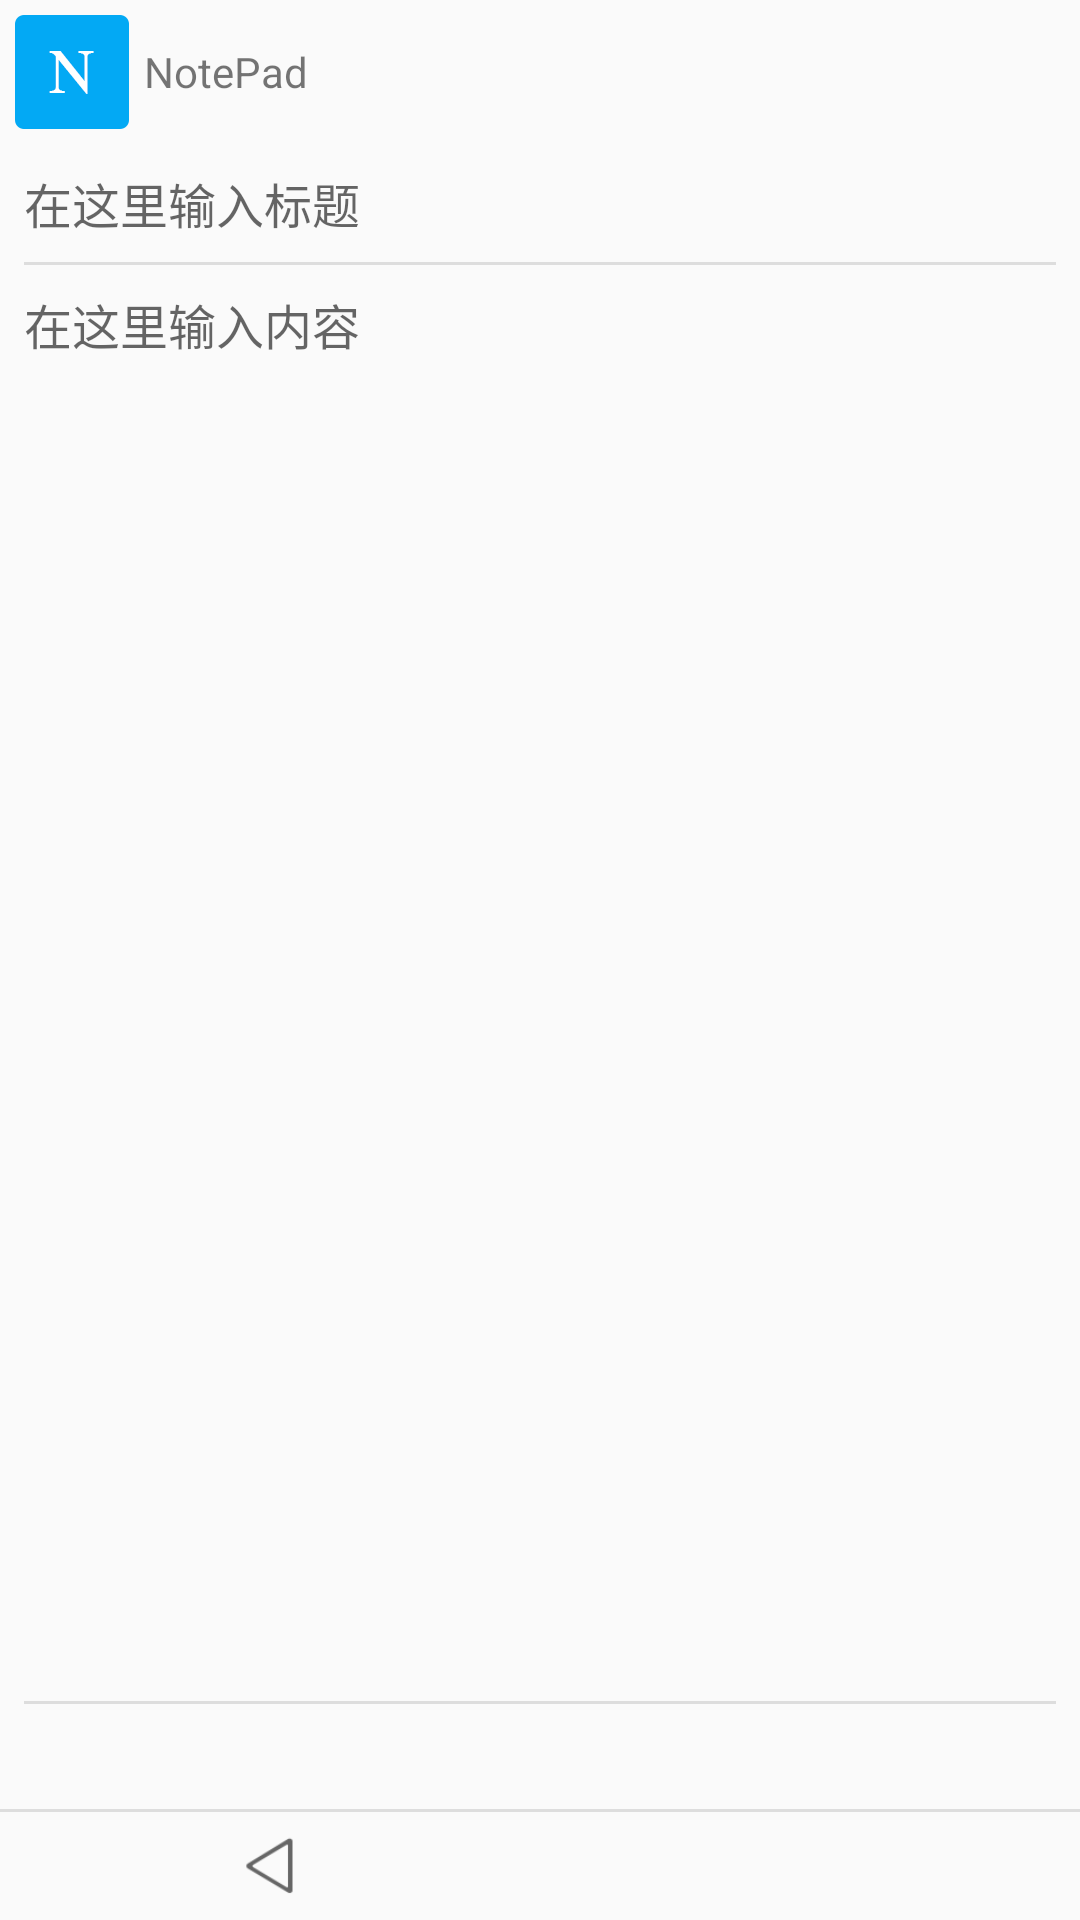

Icon click points for this 1080w x 1920h phone screenshot, format (x,y):
back: (269,1865)
